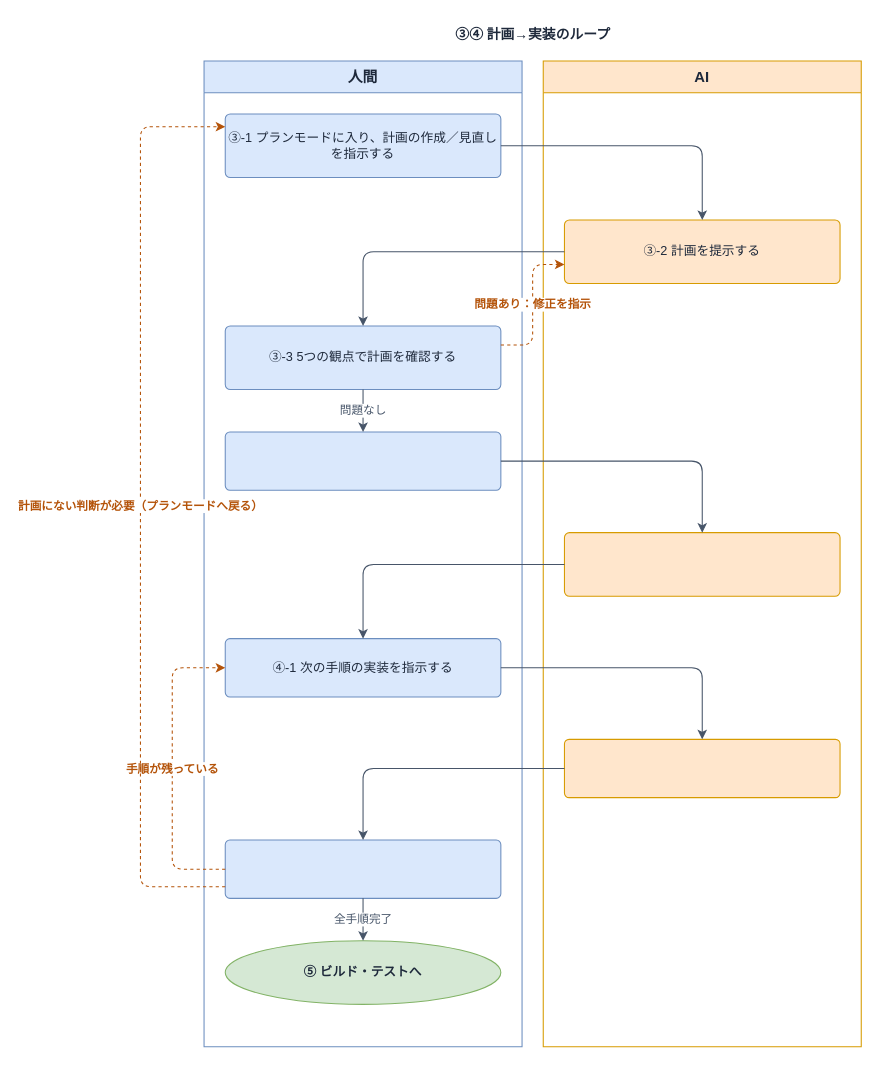
This 880x1065 diagram has some shape labels left out. The shapes that lost their labels are listed below. From the top down, each one's centre as x and y in pixels, then its label:
At [362,460]: "③-4 プランモードを終了する".
At [701,564]: "③-5 /update-spec で仕様に反映する".
At [701,768]: "④-2 手順を実装する".
At [362,868]: "④-3 動作確認し、コードを読む".
